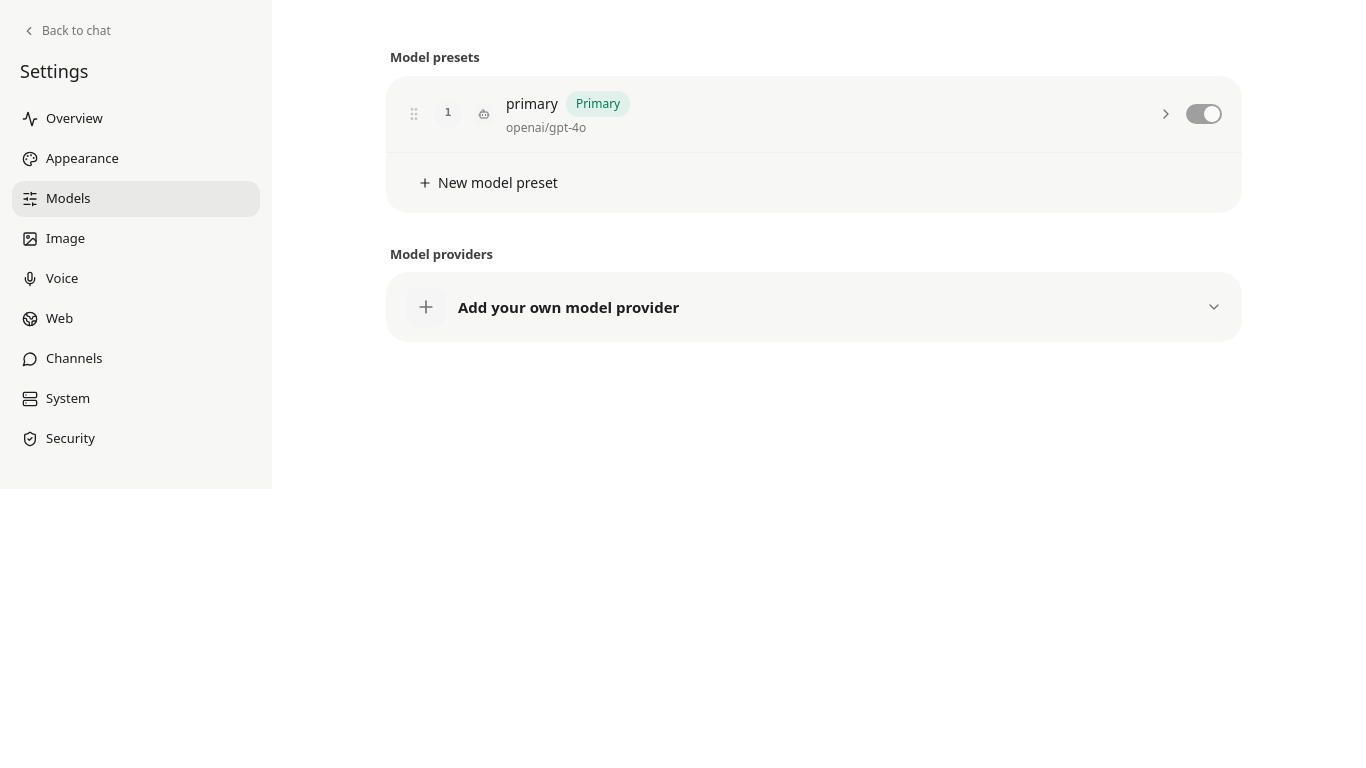
Test: Settings models › expands the model preset editor directly below the selected row
Click the button "1 primary Primary openai/gpt-4o" at (532, 104), box [434,90,1174,136]
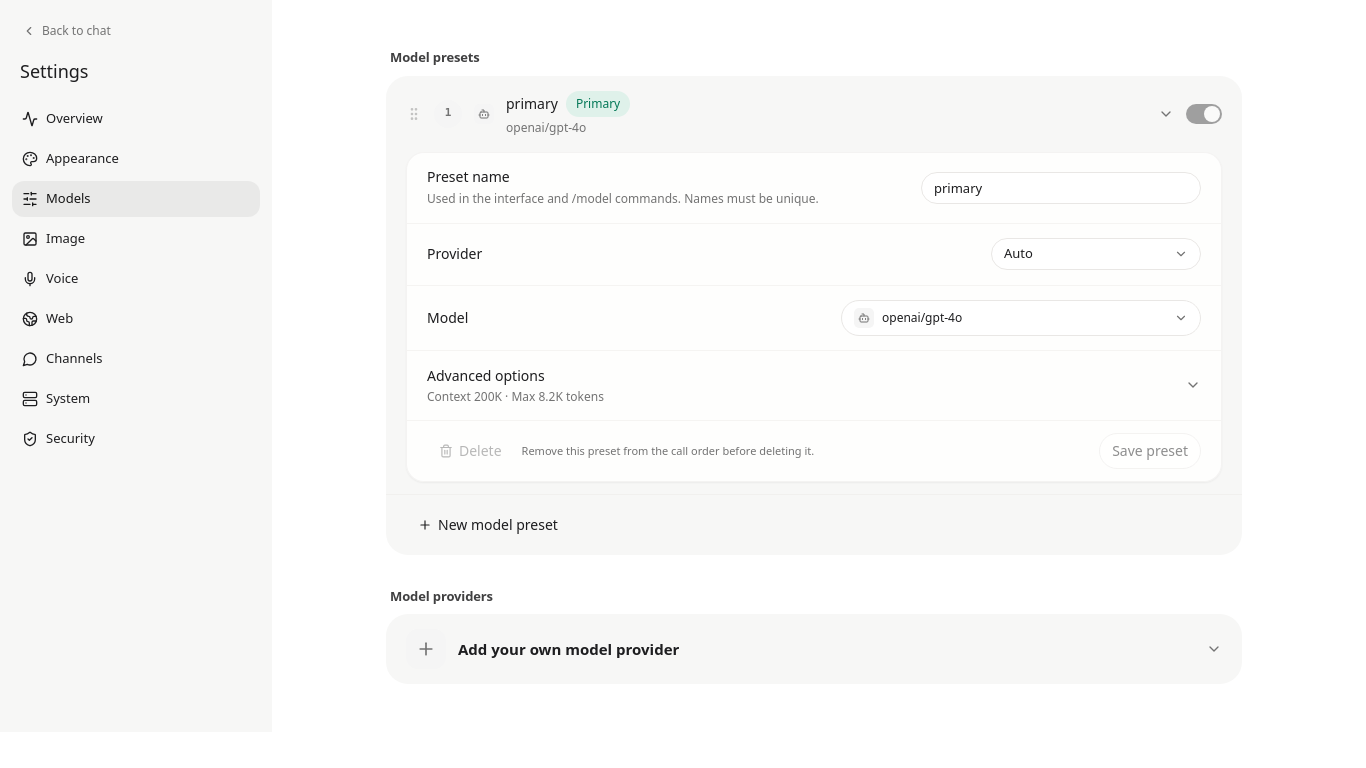
Result: the button "1 primary Primary openai/gpt-4o" is expanded
Result: the field named "Preset name" holds "primary" at [921,172,1201,204]
Result: the button "Delete" is disabled at [427,432,514,468]
Click the button "1 primary Primary openai/gpt-4o" at (532, 104), box [434,90,1174,136]
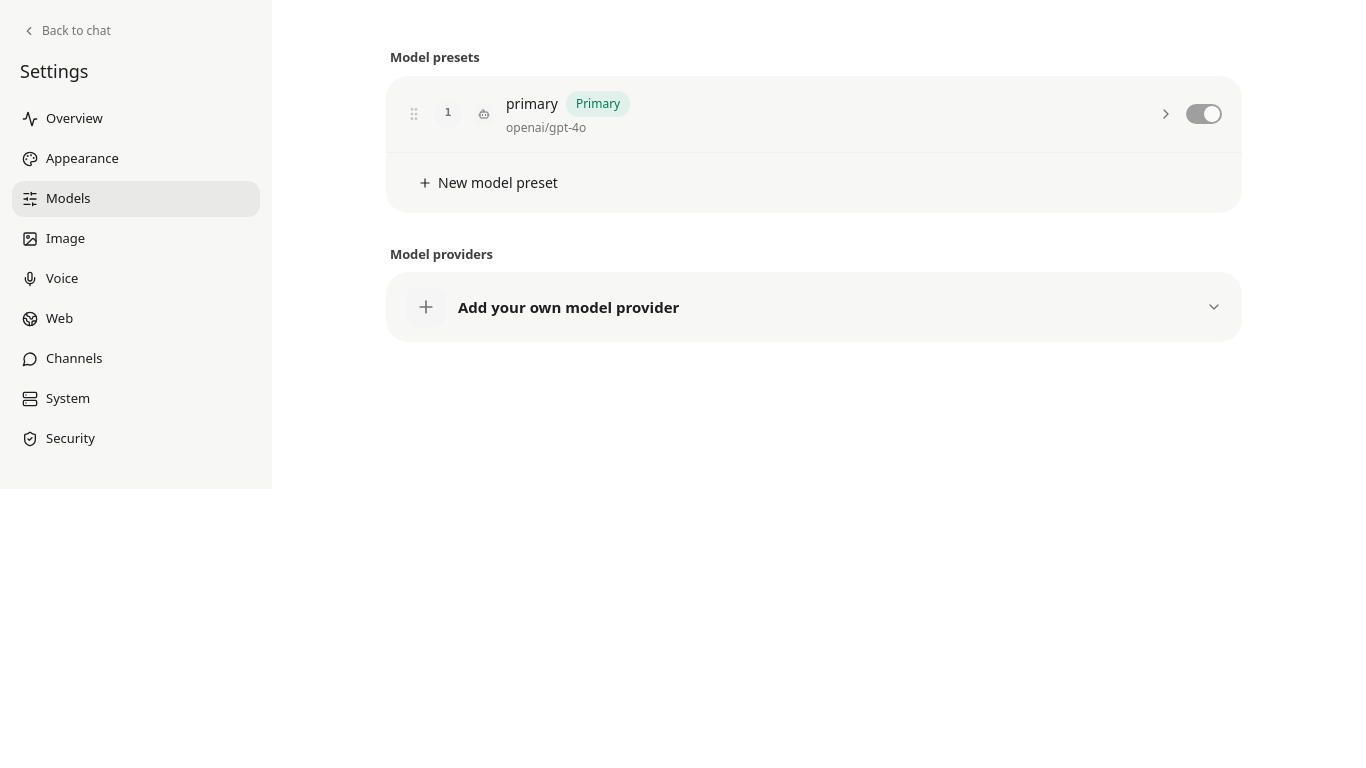
Result: the button "1 primary Primary openai/gpt-4o" is collapsed at [434,90,1174,136]
Result: the element with test id "model-preset-editor" is gone
